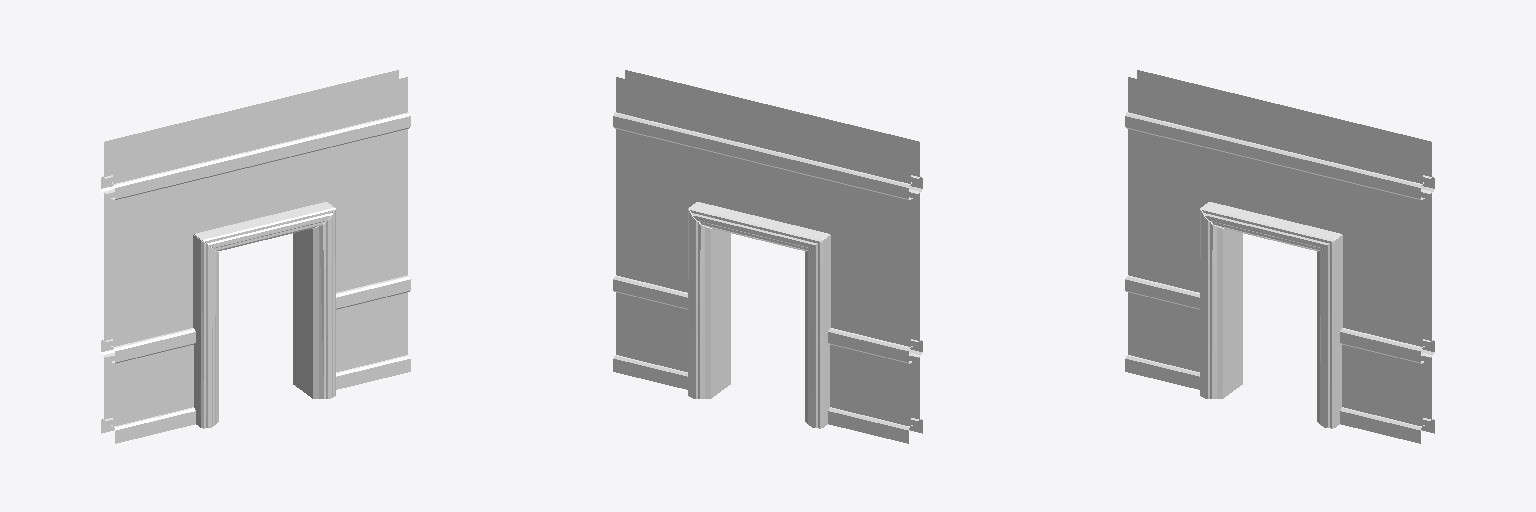
Rendered from Prefab_04.obj.
3 renders of one model, left to right at view 1: azimuth 30°, elevation 25°; view 2: azimuth 150°, elevation 25°; view 3: azimuth 330°, elevation 25°, orthographic.
Visible parts, largest first — view 1: Object004, Object005; view 2: Object004, Object005; view 3: Object004, Object005.
Part boxes in pixels (left/top/right/bottom): Object004: left=101, top=70, right=410, bottom=443; Object005: left=193, top=202, right=335, bottom=428; Object004: left=613, top=70, right=922, bottom=443; Object005: left=688, top=202, right=830, bottom=428; Object004: left=1125, top=70, right=1434, bottom=443; Object005: left=1200, top=202, right=1342, bottom=428.
Bounding box in the file's own units: 400 × 380 × 67.79.